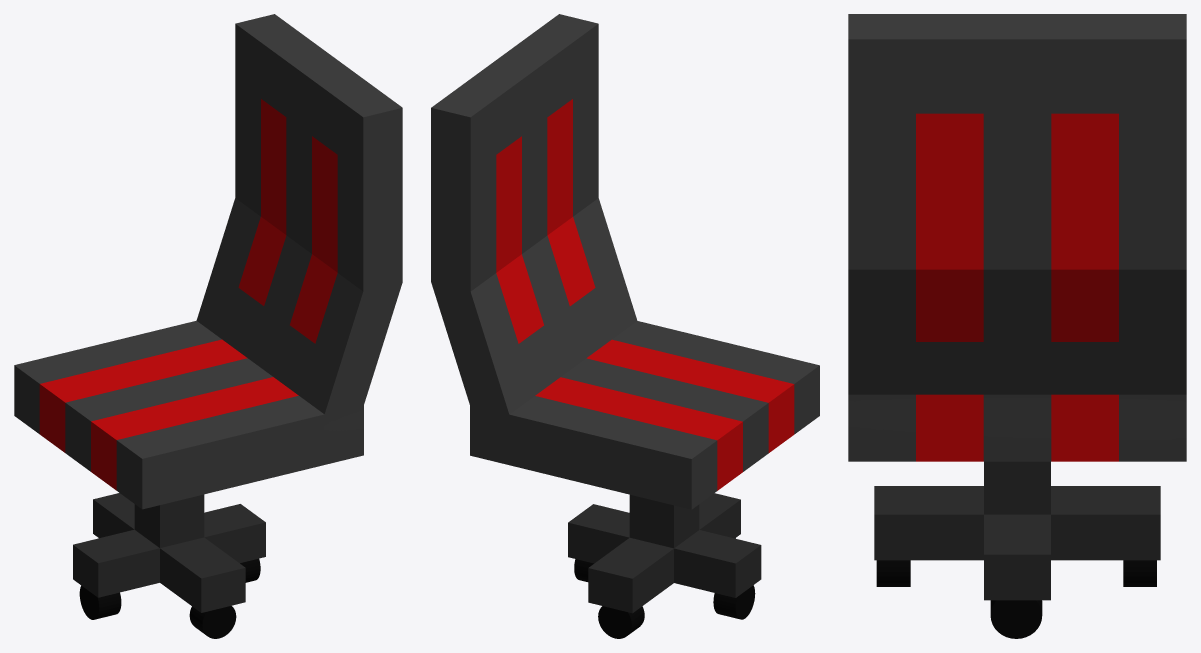
File: gamingchair.fbx
3 views of the same model, side by side, from view 1: azimuth 30°, elevation 25°; view 2: azimuth 150°, elevation 25°; view 3: azimuth 270°, elevation 25° (orthographic). The views are drawn at different scales.
Parts seen in each view (by area): view 1: Cube; view 2: Cube; view 3: Cube.
Part boxes in pixels (left/top/right/bottom): Cube: left=14, top=14, right=402, bottom=638; Cube: left=431, top=14, right=819, bottom=638; Cube: left=848, top=14, right=1186, bottom=638.
Bounding box in the file's own units: 235 × 428 × 200.
